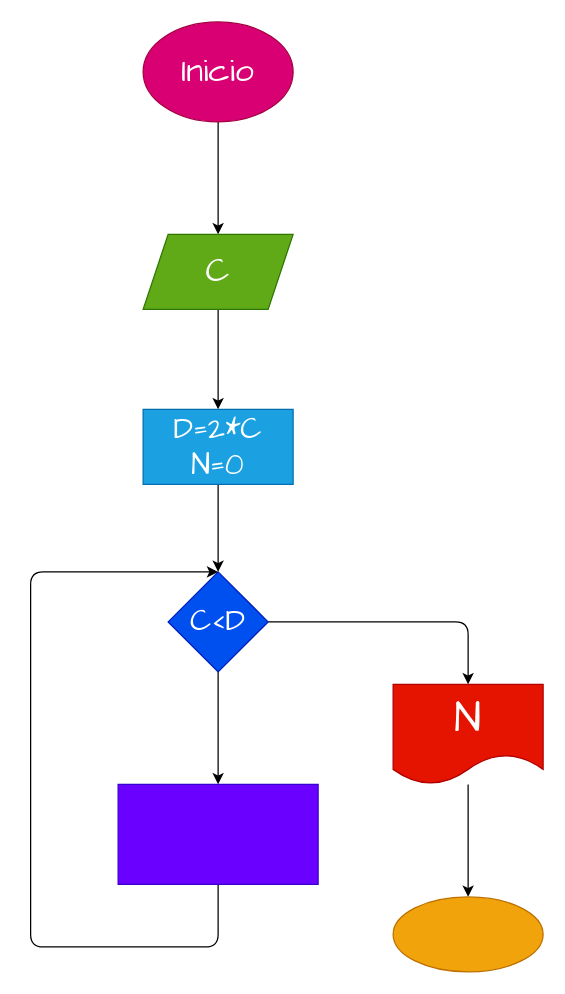
Image size: 565x994. Some labels were removed from this diagram. The centre of each missing label's shape, as x and y in pixels:
C=C+0.05*C N=N+1: point (217, 833)
Fin: point (467, 934)
